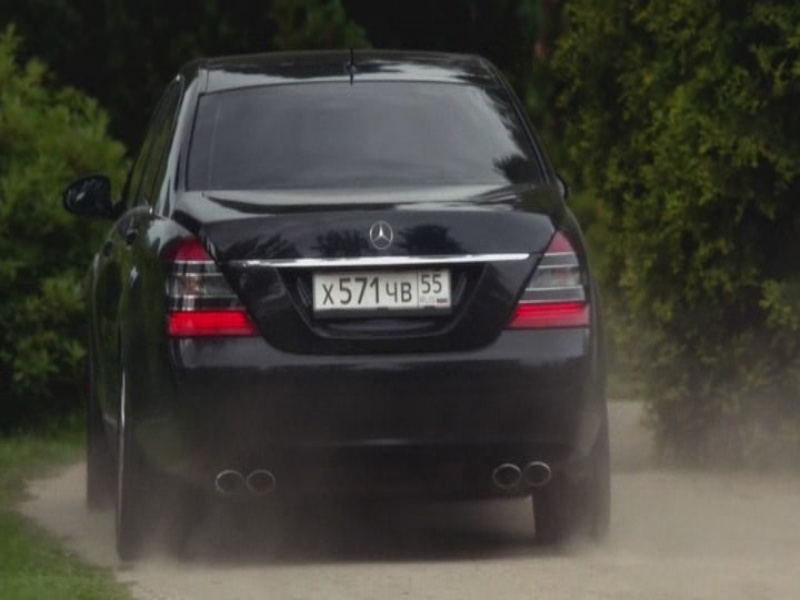car: (63, 47, 611, 561)
plate: (315, 270, 449, 306)
